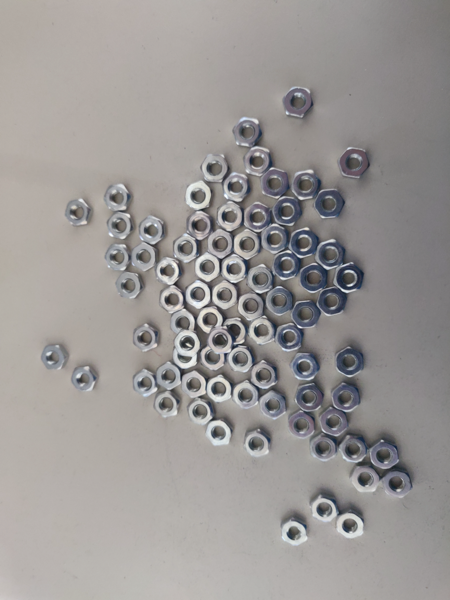nut: (282, 86, 316, 120), (273, 195, 304, 231), (340, 146, 373, 178), (334, 262, 366, 295), (233, 117, 265, 149), (334, 347, 367, 378), (313, 190, 347, 220), (264, 282, 293, 317), (272, 248, 301, 283), (287, 226, 318, 258), (214, 201, 245, 233), (280, 516, 310, 549), (296, 382, 326, 415), (105, 239, 134, 273), (248, 262, 276, 297), (339, 435, 368, 468), (159, 282, 186, 317), (243, 202, 273, 233), (318, 287, 348, 318), (301, 263, 331, 294), (294, 168, 323, 200), (291, 353, 320, 385), (292, 299, 321, 331), (227, 346, 256, 378), (320, 409, 349, 440), (205, 417, 234, 448), (335, 513, 367, 541), (260, 389, 288, 421), (139, 216, 168, 246), (333, 383, 363, 412), (171, 339, 200, 369), (251, 361, 279, 392), (317, 239, 348, 267), (185, 180, 212, 212), (385, 470, 412, 502), (261, 224, 288, 256), (185, 279, 212, 311), (114, 272, 146, 299), (202, 154, 231, 183), (312, 495, 340, 525), (233, 231, 263, 259), (174, 328, 202, 358), (195, 306, 223, 336), (106, 184, 133, 215), (373, 439, 400, 470), (236, 293, 267, 320), (198, 345, 225, 376), (133, 324, 161, 353), (223, 174, 251, 203), (351, 465, 380, 493), (232, 381, 260, 410), (105, 213, 134, 241), (221, 318, 249, 347), (66, 198, 93, 228), (246, 147, 272, 178), (172, 233, 198, 264), (155, 257, 180, 289), (71, 365, 98, 394), (185, 213, 214, 240), (210, 282, 239, 309), (41, 345, 67, 375), (262, 168, 288, 198), (207, 229, 233, 259), (310, 434, 335, 465), (289, 412, 316, 440), (131, 242, 157, 271), (181, 369, 205, 400), (194, 255, 221, 282), (206, 376, 232, 404), (276, 325, 304, 351), (244, 432, 269, 461), (250, 317, 275, 346), (133, 369, 156, 400), (208, 325, 231, 356), (156, 391, 180, 420), (156, 364, 180, 393), (189, 399, 213, 427), (224, 255, 246, 285), (170, 309, 193, 336)
